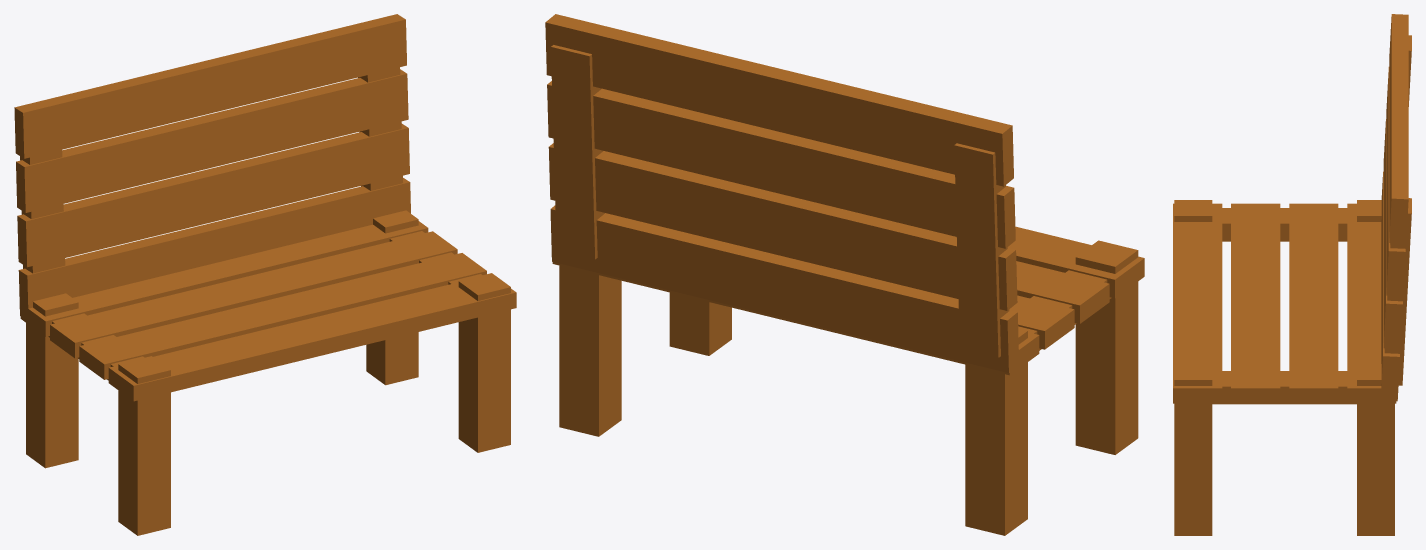
Rendered from bench.fbx.
3 views of the same model, side by side, from view 1: azimuth 30°, elevation 25°; view 2: azimuth 150°, elevation 25°; view 3: azimuth 270°, elevation 25° (orthographic). The views are drawn at different scales.
Parts seen in each view (by area): view 1: Cube.018; view 2: Cube.018; view 3: Cube.018.
Part boxes in pixels (box(x1,y1,x2,y2)): Cube.018: box(14, 14, 516, 535); Cube.018: box(545, 14, 1144, 535); Cube.018: box(1173, 14, 1411, 535).
Bounding box in the file's own units: 271 × 233 × 148.
